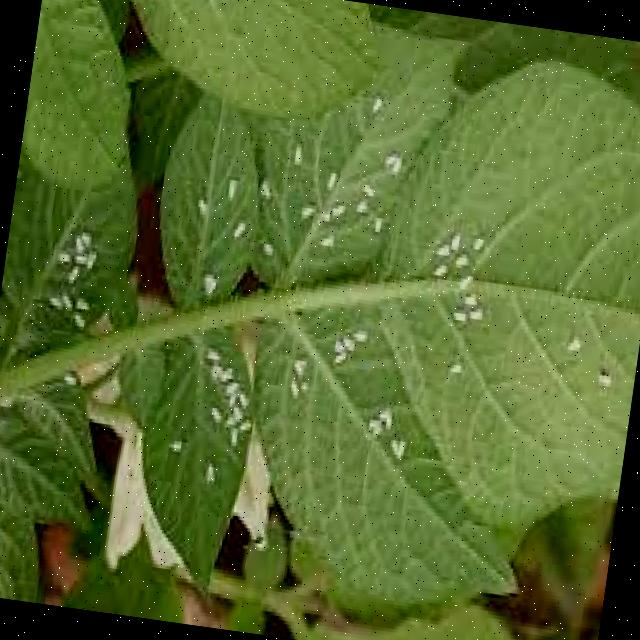whitefly: (22, 43, 640, 535)
